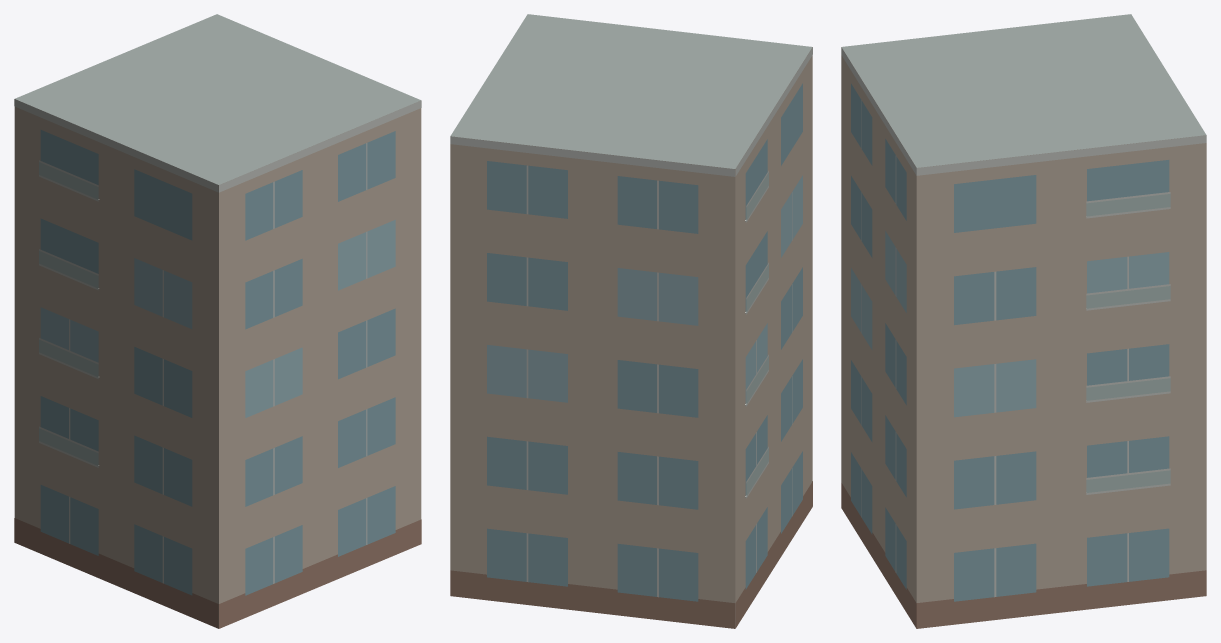
File: survey-upis-32931204.glb
The picture shows the model from 3 angles, left to right: view 1: azimuth 30°, elevation 25°; view 2: azimuth 150°, elevation 25°; view 3: azimuth 270°, elevation 25°; orthographic projection. The views are drawn at different scales.
Visible parts, largest first — view 1: survey-upis-32931204.tmp; view 2: survey-upis-32931204.tmp; view 3: survey-upis-32931204.tmp.
Part boxes in pixels (left/top/right/bottom): survey-upis-32931204.tmp: left=14, top=14, right=421, bottom=628; survey-upis-32931204.tmp: left=450, top=14, right=812, bottom=628; survey-upis-32931204.tmp: left=841, top=14, right=1206, bottom=628.
Size of the model in its own units: 10.25 by 14.3 by 10.28.
